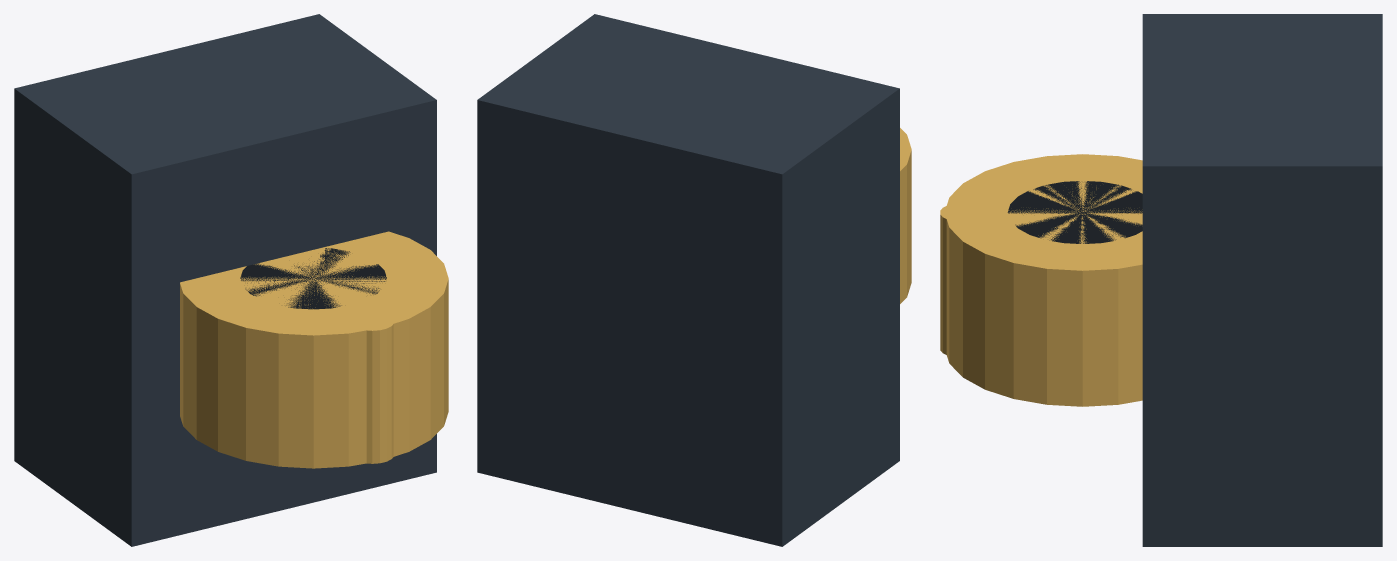
The picture shows the model from 3 angles, left to right: view 1: azimuth 30°, elevation 25°; view 2: azimuth 150°, elevation 25°; view 3: azimuth 270°, elevation 25°; orthographic projection. The views are drawn at different scales.
Visible parts, largest first — view 1: J2; view 2: J2; view 3: J2.
Part boxes in pixels (x1,y1,x2,y2): J2: (14, 14, 448, 546); J2: (477, 14, 911, 546); J2: (940, 14, 1382, 546).
Bounding box in the file's own units: 0.006 × 0.007 × 0.00737.
